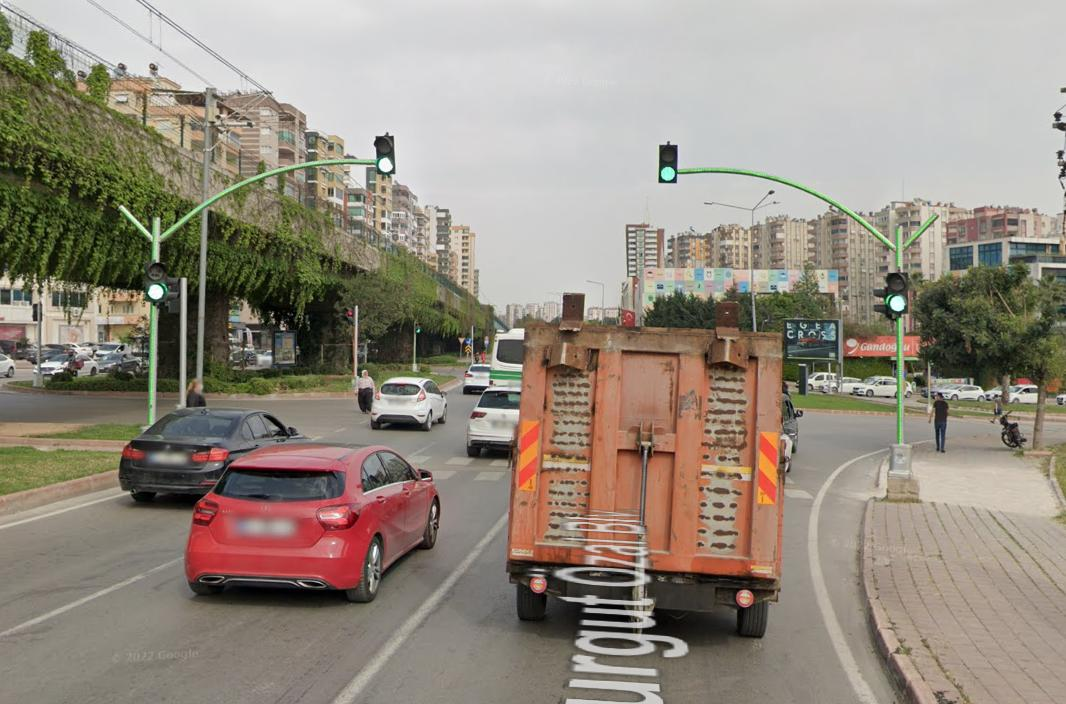greenlight: (655, 138, 681, 194), (373, 132, 401, 178), (885, 270, 909, 319), (144, 261, 169, 305)
